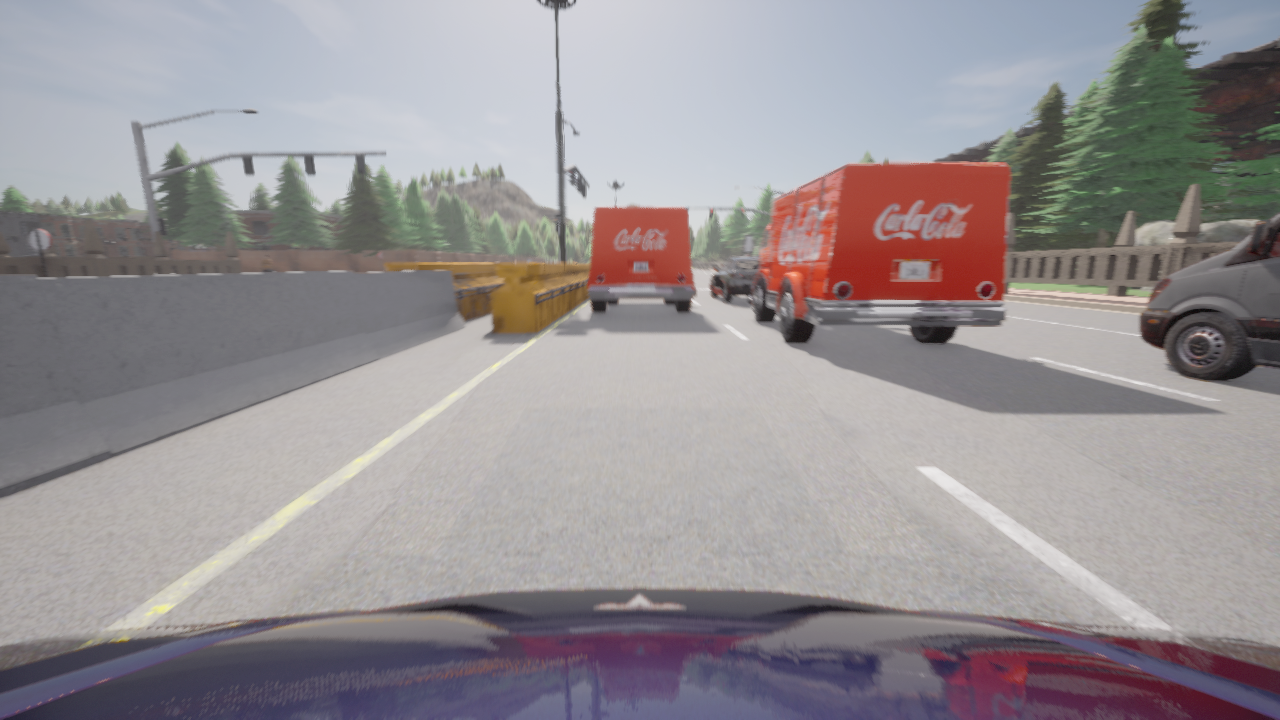cyclist: (0, 588, 1279, 719), (744, 162, 1009, 343), (1140, 213, 1279, 379), (588, 207, 695, 312), (711, 257, 758, 302)
pedestrian: (261, 254, 274, 272)
